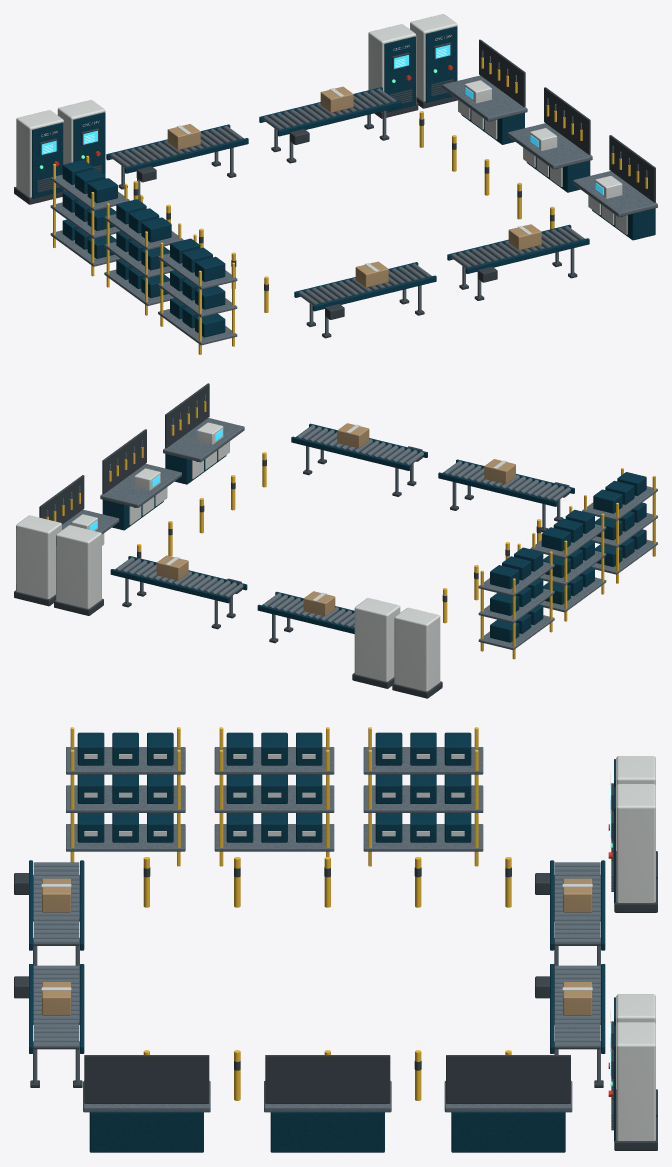
The model's file is interior.gltf.
The picture shows the model from 3 angles, top to bottom: view 1: azimuth 30°, elevation 25°; view 2: azimuth 150°, elevation 25°; view 3: azimuth 270°, elevation 25°; orthographic projection. The views are drawn at different scales.
Parts seen in each view (by area): view 1: interior; view 2: interior; view 3: interior.
Part boxes in pixels (box(x1,y1,x2,y2)): interior: box(14, 14, 657, 354); interior: box(14, 383, 657, 698); interior: box(14, 727, 657, 1152).
Bounding box in the file's own units: 13.95 × 2.4 × 12.11.
Materials: 10 (2 with a texture image).
